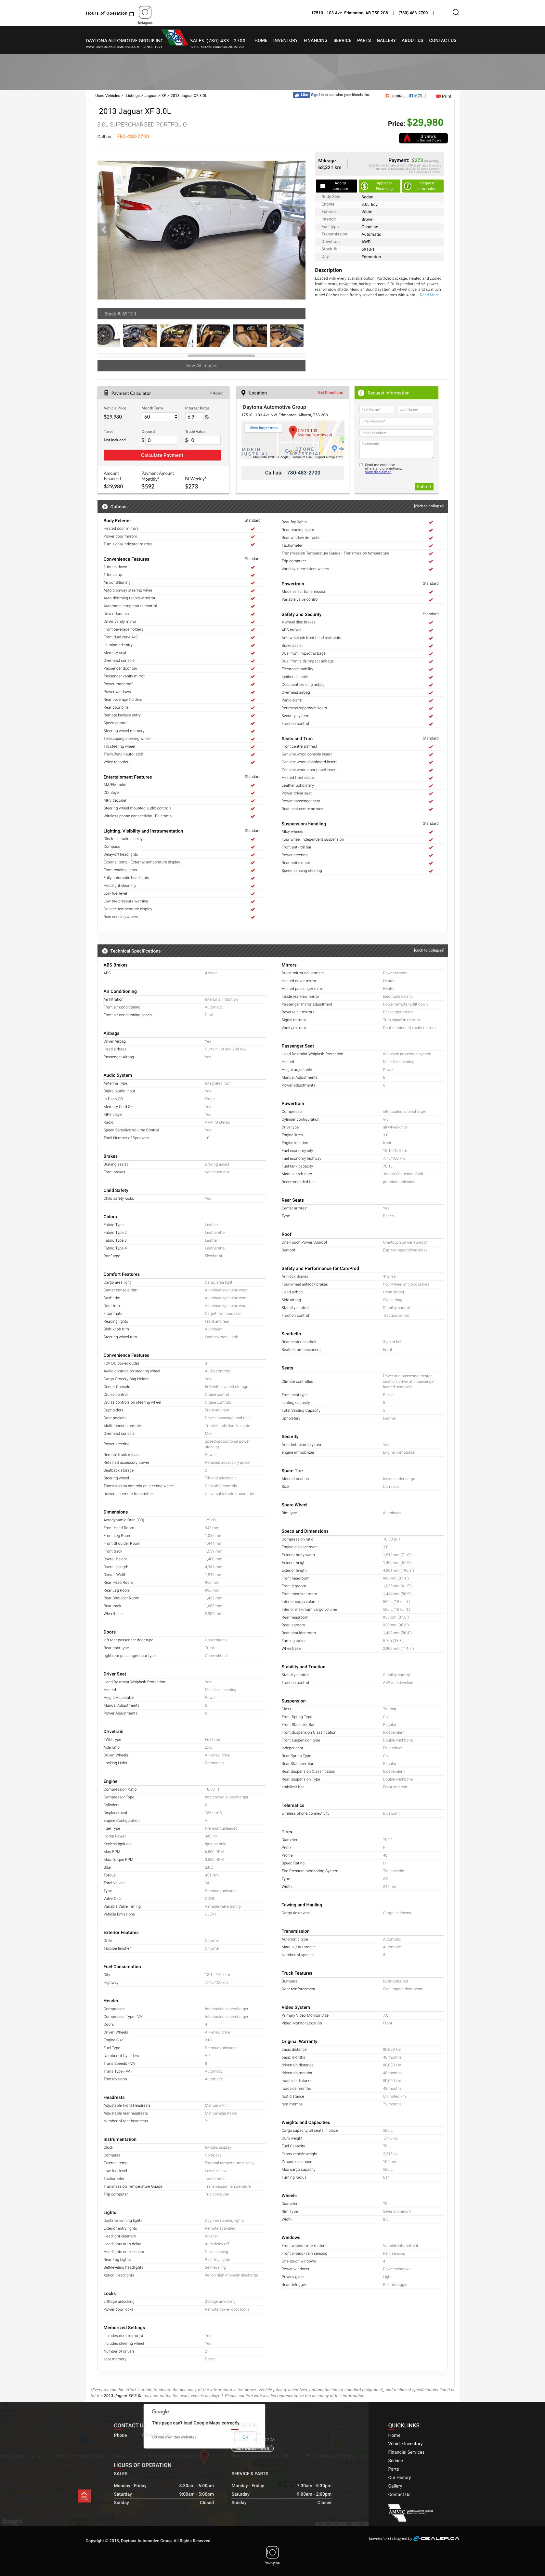car: (292, 223, 307, 238)
